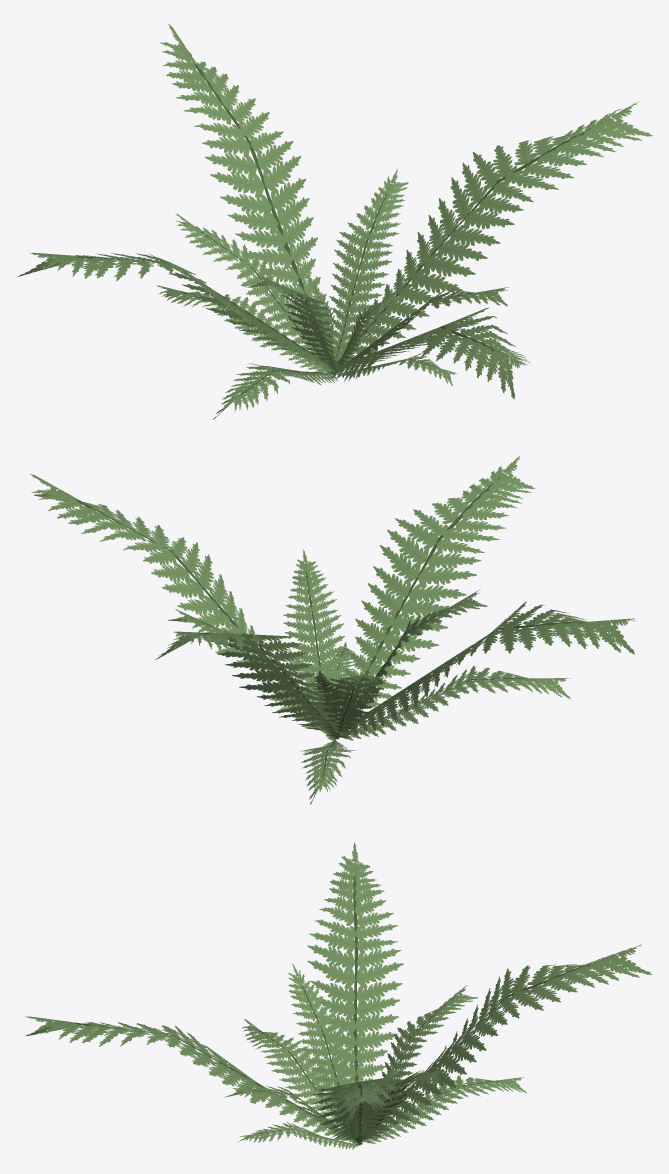
File: GroundFern.fbx
3 renders of one model, top to bottom at view 1: azimuth 30°, elevation 25°; view 2: azimuth 150°, elevation 25°; view 3: azimuth 270°, elevation 25°, orthographic. The views are drawn at different scales.
Parts seen in each view (by area): view 1: pPlane4, pPlane1, pPlane8, pPlane3, pPlane2, pPlane7, pPlane5, pPlane11, pPlane13, pPlane6, pPlane12, pPlane10 (+1 smaller); view 2: pPlane3, pPlane4, pPlane1, pPlane2, pPlane6, pPlane11, pPlane7, pPlane13, pPlane5, pPlane8, pPlane9; view 3: pPlane2, pPlane1, pPlane3, pPlane5, pPlane4, pPlane11, pPlane13, pPlane7, pPlane6, pPlane12, pPlane8.
Part boxes in pixels (x1,y1,x2,y2): pPlane4: (335, 101, 652, 365); pPlane1: (160, 24, 338, 369); pPlane8: (329, 168, 408, 370); pPlane3: (332, 307, 530, 398); pPlane2: (17, 252, 335, 370); pPlane7: (175, 213, 333, 372); pPlane5: (246, 275, 339, 373); pPlane11: (213, 363, 337, 419); pPlane13: (156, 285, 330, 372); pPlane6: (339, 287, 508, 370); pPlane12: (337, 353, 457, 385); pPlane10: (335, 291, 402, 371); pPlane3: (333, 455, 534, 725); pPlane4: (30, 474, 331, 734); pPlane1: (155, 631, 342, 734); pPlane2: (340, 601, 636, 738); pPlane6: (283, 549, 347, 734); pPlane11: (340, 665, 570, 740); pPlane7: (323, 672, 385, 739); pPlane13: (300, 740, 355, 804); pPlane5: (338, 589, 487, 735); pPlane8: (168, 609, 335, 739); pPlane9: (312, 670, 340, 740); pPlane2: (307, 842, 403, 1123); pPlane1: (367, 944, 651, 1137); pPlane3: (25, 1016, 354, 1140); pPlane5: (288, 963, 356, 1140); pPlane4: (312, 1075, 408, 1141); pPlane11: (242, 1019, 354, 1143); pPlane13: (363, 1075, 526, 1143); pPlane7: (367, 985, 478, 1124); pPlane6: (224, 1085, 359, 1146); pPlane12: (238, 1121, 357, 1149); pPlane8: (360, 1069, 446, 1139).
Size of the model in its own units: 0.7552 by 0.2757 by 0.758.
